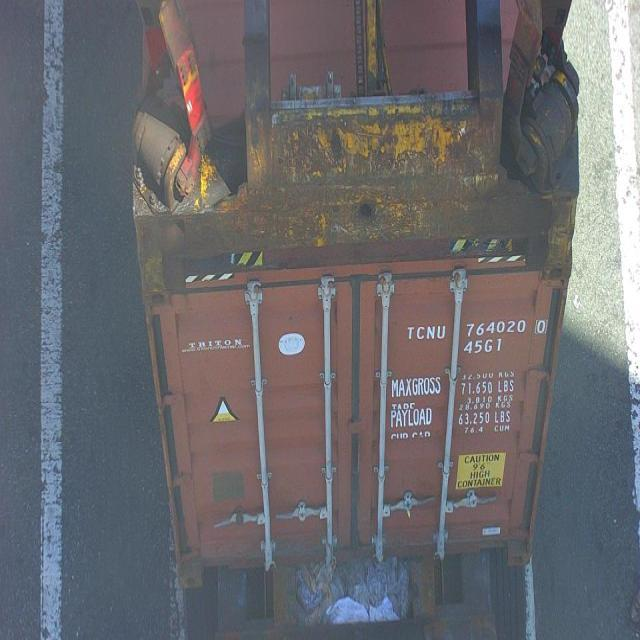ISO: (462, 338, 503, 355)
container_number: (410, 318, 551, 338)
